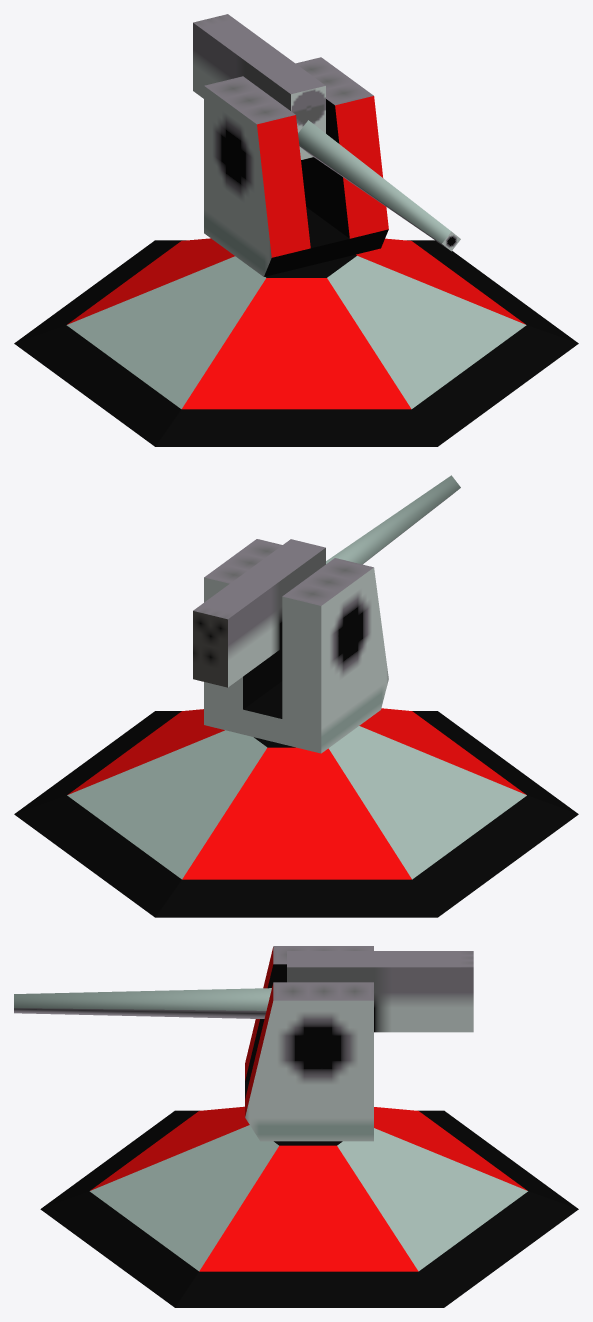
Rendered from AA_Altillery_1.fbx.
3 views of the same model, one above another, from view 1: azimuth 30°, elevation 25°; view 2: azimuth 150°, elevation 25°; view 3: azimuth 270°, elevation 25° (orthographic). The views are drawn at different scales.
Visible parts, largest first — view 1: Artillery Base, Artillery Barrel; view 2: Artillery Base, Artillery Barrel; view 3: Artillery Base, Artillery Barrel.
Boxes of the visible parts, box(x1,y1,x2,y2) form: Artillery Base: box(14, 238, 578, 446); Artillery Barrel: box(193, 14, 460, 276); Artillery Base: box(14, 708, 578, 917); Artillery Barrel: box(193, 475, 460, 753); Artillery Base: box(40, 1106, 578, 1307); Artillery Barrel: box(14, 946, 473, 1141).
Bounding box in the file's own units: 723 × 876 × 428.
